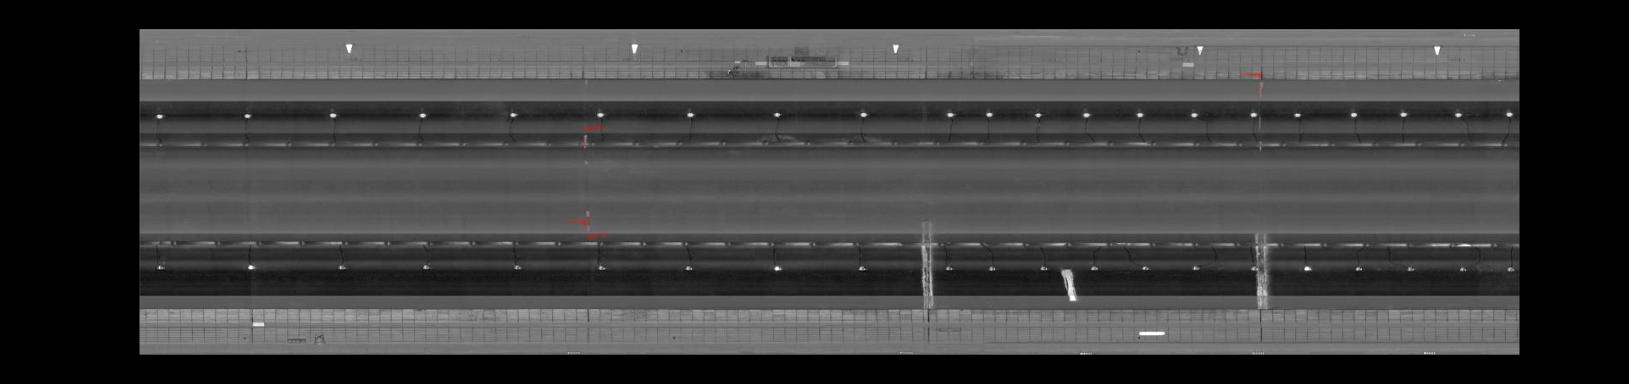light: (851, 108, 873, 120), (767, 260, 786, 274), (333, 260, 351, 274), (508, 260, 527, 273), (591, 108, 610, 120), (152, 260, 169, 273), (682, 108, 699, 120), (769, 108, 786, 120), (679, 262, 697, 274), (1136, 262, 1153, 274), (1456, 260, 1471, 274), (413, 109, 430, 121), (418, 260, 435, 272), (1502, 262, 1516, 276), (242, 260, 258, 273), (505, 108, 520, 120), (1394, 108, 1411, 119), (1185, 108, 1202, 119), (852, 264, 870, 274), (1030, 108, 1045, 119), (1300, 262, 1315, 273), (1345, 108, 1361, 119), (1078, 108, 1094, 119), (236, 111, 255, 120), (151, 111, 167, 121), (1501, 108, 1516, 119), (1450, 108, 1465, 119), (325, 110, 341, 120), (593, 264, 609, 274), (942, 108, 958, 118), (981, 109, 996, 119), (1351, 263, 1366, 273), (1245, 108, 1260, 118), (1086, 264, 1102, 273), (1038, 263, 1051, 274), (941, 264, 956, 274), (984, 264, 998, 274), (1189, 264, 1202, 274), (1404, 264, 1417, 274), (1291, 109, 1305, 119), (1132, 109, 1146, 119), (1246, 264, 1259, 273)
